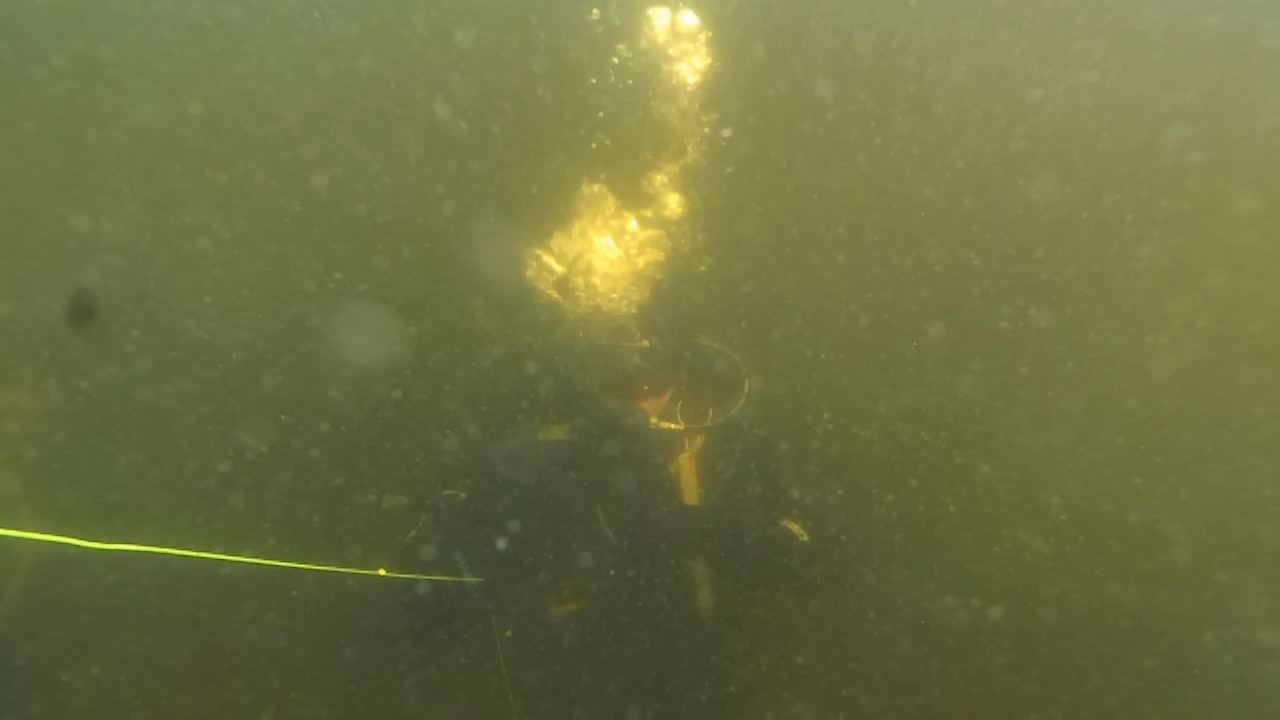Diver: (348, 256, 830, 694)
